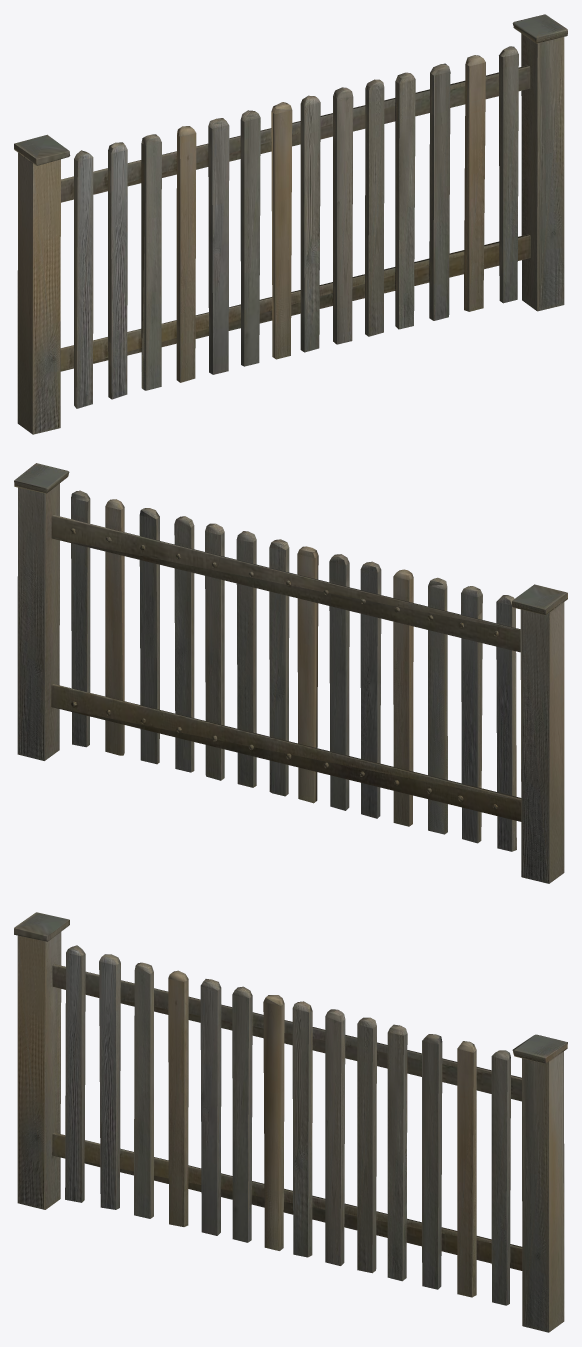
Rendered from fence.glb.
The picture shows the model from 3 angles, top to bottom: view 1: azimuth 30°, elevation 25°; view 2: azimuth 150°, elevation 25°; view 3: azimuth 330°, elevation 25°; orthographic projection.
Bounding box in the file's own units: 2 × 1 × 0.15.
1 material, 1 textured.
